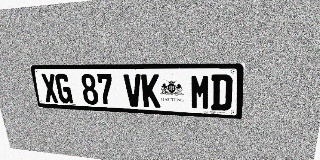7: (96, 74, 115, 106)
8: (80, 74, 99, 105)
D: (211, 74, 233, 111)
G: (54, 74, 73, 104)
K: (141, 74, 161, 108)
M: (190, 74, 211, 110)
V: (123, 74, 143, 107)
X: (41, 74, 59, 103)
